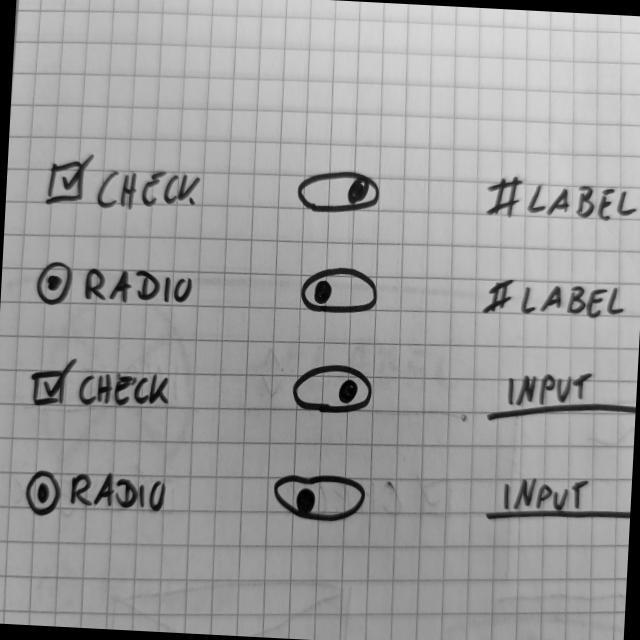checkbox: (45, 150, 205, 219), (31, 356, 176, 416)
input: (483, 365, 638, 433), (483, 468, 634, 533)
label: (485, 173, 640, 231), (482, 276, 634, 327)
radio: (35, 260, 200, 316), (23, 467, 173, 527)
toggle: (272, 472, 369, 525), (296, 165, 385, 222), (290, 361, 377, 418), (298, 264, 383, 319)
